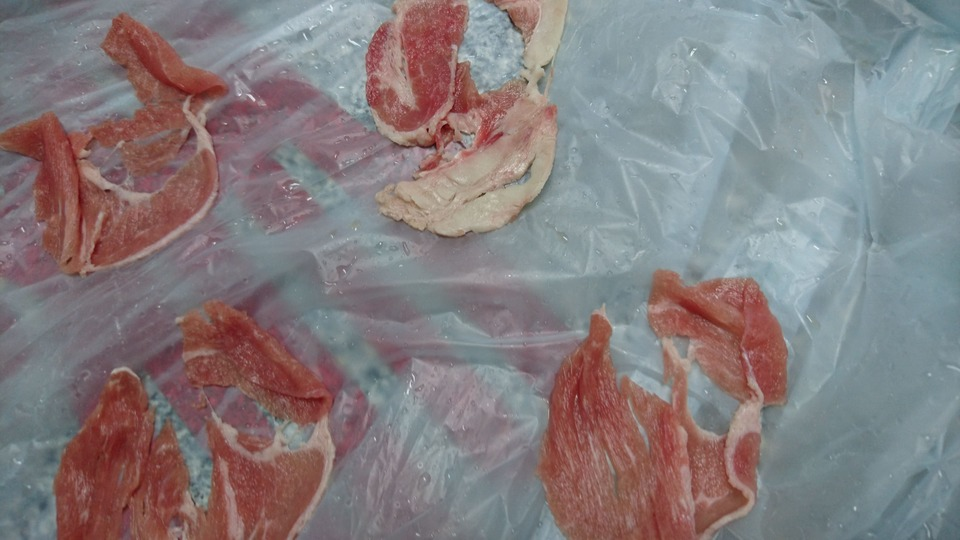restructured meat: (58, 300, 367, 538), (543, 260, 791, 540), (1, 8, 225, 276), (362, 1, 564, 240)
